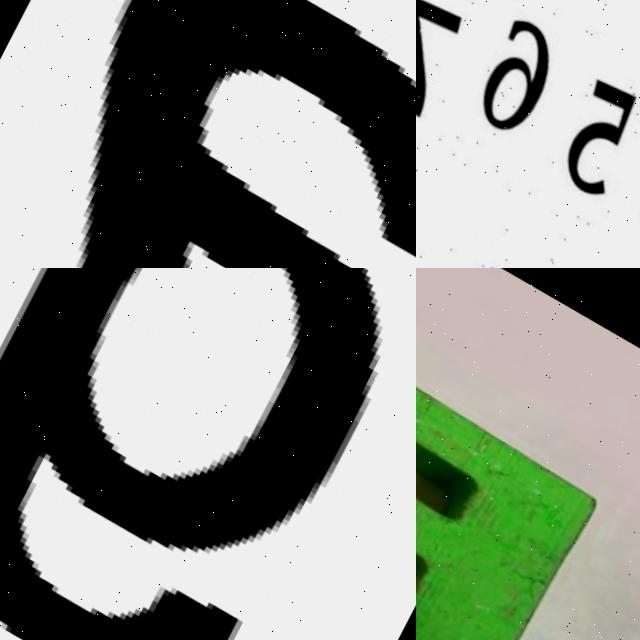0: (418, 235, 554, 268)
5: (524, 37, 640, 219)
6: (443, 0, 596, 160)
7: (416, 0, 500, 142)
A: (0, 0, 416, 268)
F: (416, 296, 614, 640)
G: (0, 268, 416, 640)
